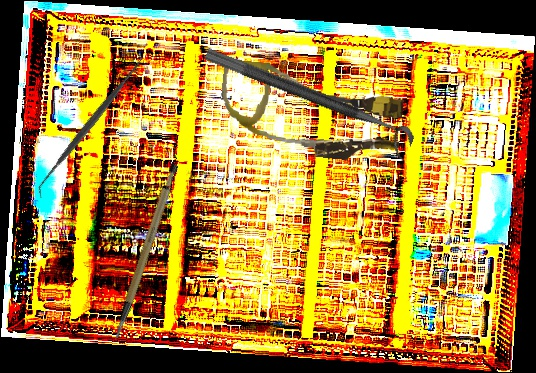Cannula: (215, 58, 407, 166)
Fixation Ring: (196, 46, 418, 162)
Scalpel Handle: (86, 161, 202, 341)
Spatula Surgical: (26, 49, 154, 200)
